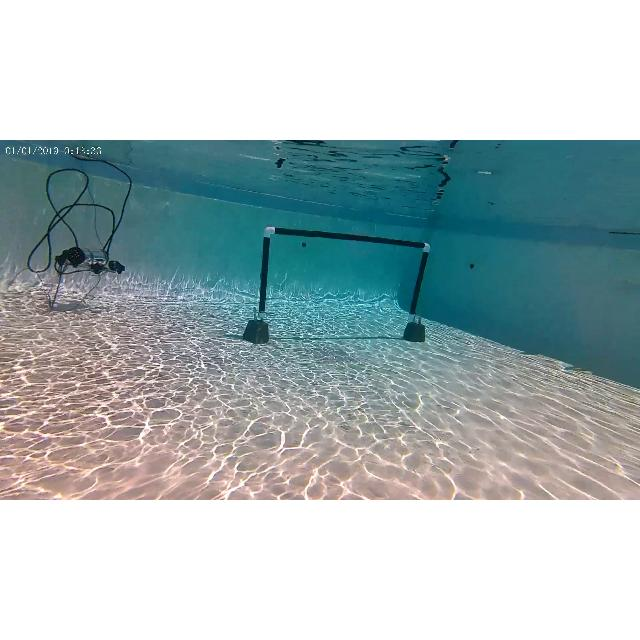prequal gate: (258, 225, 432, 319)
prequal gate leg l: (260, 224, 276, 320)
prequal gate leg r: (408, 239, 434, 319)
